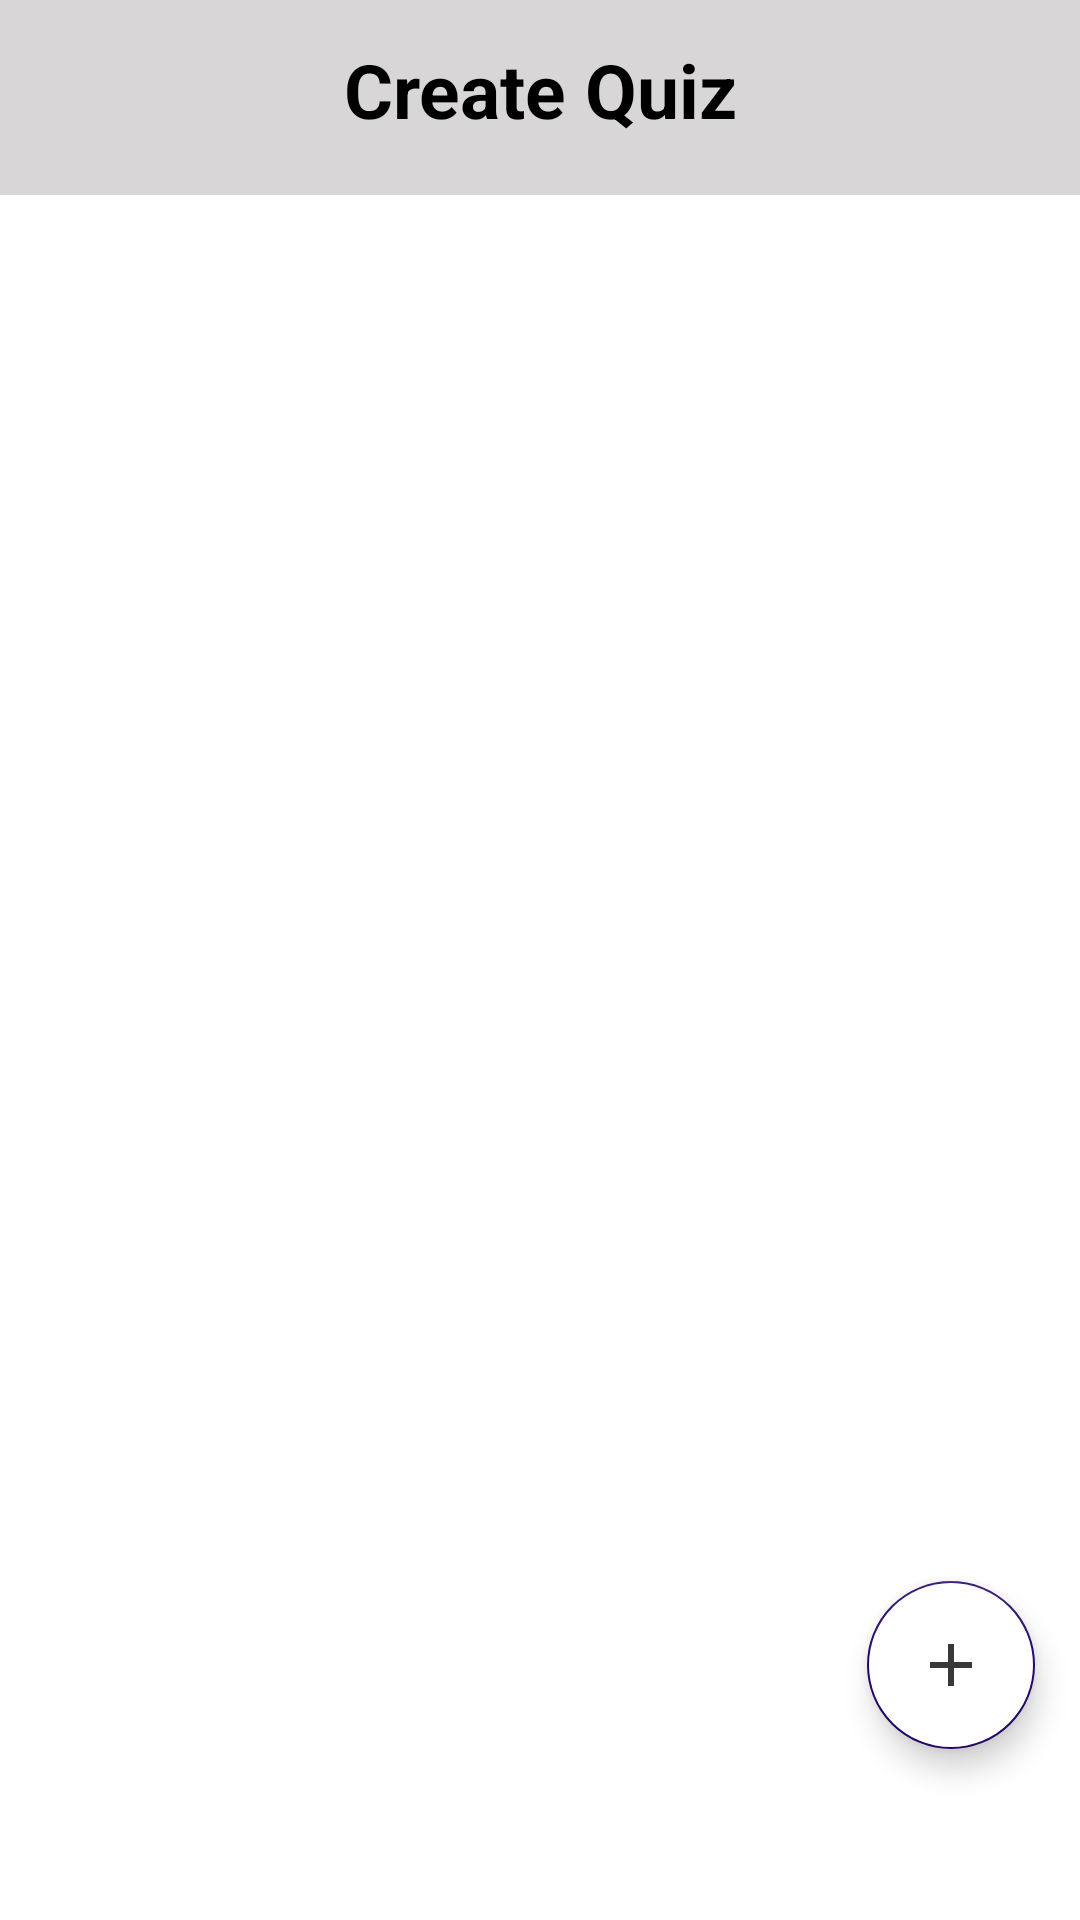

Point at icon controls on the screen. Image size 1080 x 1920, points as (x,y).
add: (951,1665)
